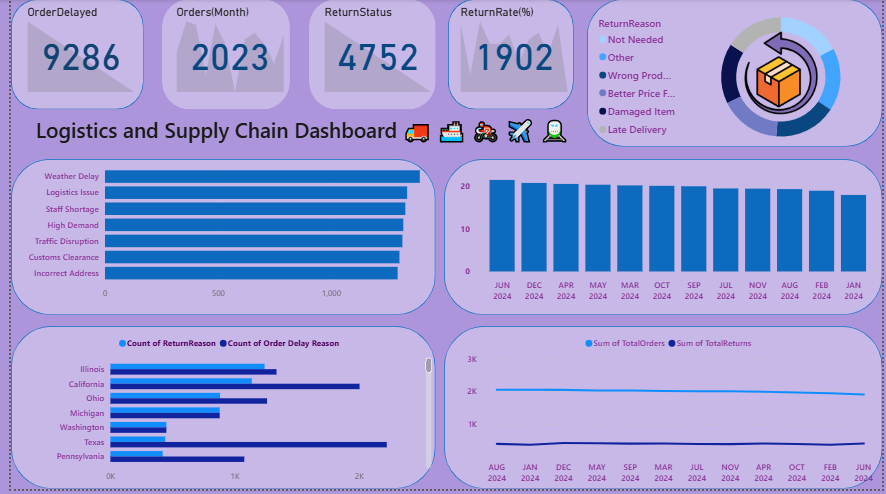

The page's visual inventory and layout, read from the dashboard file:
{"tool":"powerbi","page":{"name":"Page3","canvas":[1280,720],"ordinal":1},"visuals":[{"type":"lineChart","title":"Sum of TotalOrders and TotalReturns by OrderMonthYear","fields":{"Category":["ReturnRate.OrderMonthYear"],"Y":["Sum(ReturnRate.TotalOrders)","Sum(ReturnRate.TotalReturns)"]},"box":[668.2,499,611.8,220.5],"z":0,"group":"g1"},{"type":"columnChart","title":"ReturnRate(%) By OrderMonthYear","fields":{"Category":["ReturnRate.OrderMonthYear"],"Y":["Sum(ReturnRate.ReturnRate(%))"]},"box":[668.2,290.5,611.8,210.2],"z":1000,"group":"g1"},{"type":"barChart","title":"Number of OrderDelay''s And Reason","fields":{"Category":["DHL_Facilities.Order Delay Reason"],"Y":["CountNonNull(DHL_Facilities.ORDER_ID)"]},"box":[0,290.5,591.3,210.2],"z":2000,"group":"g1"},{"type":"clusteredBarChart","title":"Count of ReturnReason and Order Delay Reason by State","fields":{"Category":["DHL_Facilities.STATE"],"Y":["CountNonNull(DHL_Facilities.ReturnReason)","CountNonNull(DHL_Facilities.Order Delay Reason)"]},"box":[0,499,587.9,220.5],"z":3000,"group":"g1"},{"type":"donutChart","fields":{"Y":["CountNonNull(DHL_Facilities.ReturnStatus)"],"Category":["DHL_Facilities.ReturnReason"]},"box":[851.7,0,428.3,267.1],"z":4000,"group":"g1"},{"type":"kpi","title":"Orders(Month)","fields":{"Indicator":["CountNonNull(DHL_Facilities.ORDER_ID)"],"TrendLine":["DHL_Facilities.OrderMonthYear"]},"box":[575.9,0,275.1,133.3],"z":5000,"group":"g1"},{"type":"kpi","title":"ReturnStatus","fields":{"TrendLine":["DHL_Facilities.ReturnStatus"],"Indicator":["CountNonNull(DHL_Facilities.ORDER_ID)"]},"box":[575.9,133.3,275.1,119.6],"z":6000,"group":"g1"},{"type":"cardVisual","title":"IsDelayed","fields":{"Rows":["DHL_Facilities.IsDelayed"],"Data":["CountNonNull(DHL_Facilities.ORDER_ID)"]},"box":[270,0,278.6,290.5],"z":7000,"group":"g1"},{"type":"kpi","title":"AVG Delivery Day","fields":{"Indicator":["Avg(DHL_Facilities.DeliveryDays)"],"TrendLine":["DHL_Facilities.OrderMonthYear"]},"box":[0,0,246.1,133.3],"z":8000,"group":"g1"},{"type":"kpi","title":"ReturnRate(%)","fields":{"TrendLine":["DHL_Facilities (2).ReturnRate(%)"],"Indicator":["CountNonNull(DHL_Facilities.OrderMonthYear)"]},"box":[0,133.3,246.1,119.6],"z":9000,"group":"g1"},{"type":"group","id":"g1","title":"Group 1","box":[0,0,1280,719.5],"z":9007}]}

Visuals, with their boxes in screenshot pixels (x1, y1, x2, y2), scaled from the page's 1280x720 canvas onto the 886x494 screenshot:
"Sum of TotalOrders and TotalReturns by OrderMonthYear" lineChart: [463, 342, 885, 493]
"ReturnRate(%) By OrderMonthYear" columnChart: [463, 199, 885, 344]
"Number of OrderDelay''s And Reason" barChart: [0, 199, 409, 344]
"Count of ReturnReason and Order Delay Reason by State" clusteredBarChart: [0, 342, 407, 493]
donutChart - CountNonNull(DHL_Facilities.ReturnStatus) x DHL_Facilities.ReturnReason: [590, 0, 885, 183]
"Orders(Month)" kpi: [399, 0, 589, 91]
"ReturnStatus" kpi: [399, 91, 589, 174]
"IsDelayed" cardVisual: [187, 0, 380, 199]
"AVG Delivery Day" kpi: [0, 0, 170, 91]
"ReturnRate(%)" kpi: [0, 91, 170, 174]
"Group 1" group: [0, 0, 885, 493]
